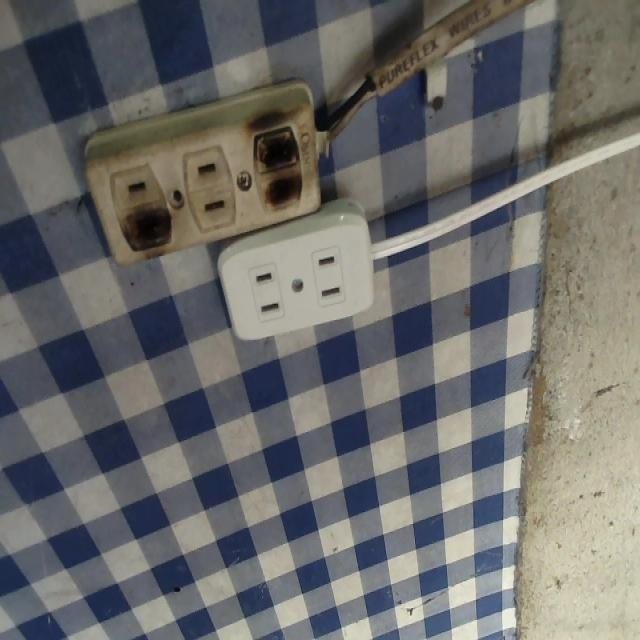-: (247, 122, 311, 210), (107, 201, 179, 255)
